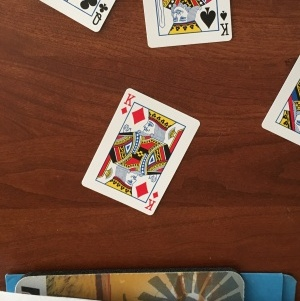card: (81, 87, 200, 214)
